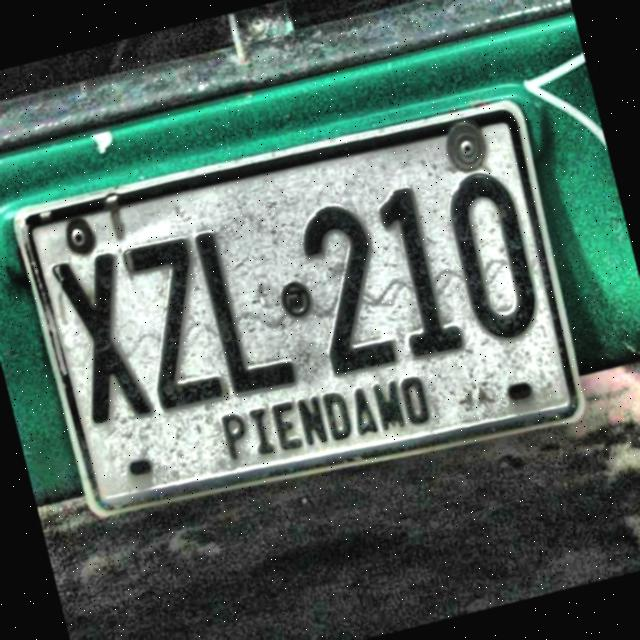0: (432, 163, 550, 350)
1: (362, 175, 468, 364)
2: (290, 190, 404, 382)
L: (186, 214, 300, 402)
X: (48, 248, 156, 432)
Z: (117, 228, 231, 418)
